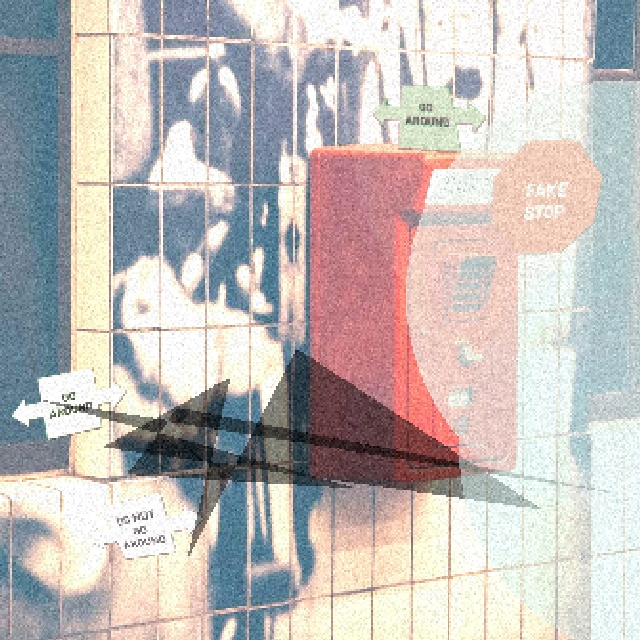DO_NOT_GO_AROUND: (87, 490, 203, 558)
FAKE_STOP: (489, 137, 602, 253)
GO_AROUND: (9, 365, 125, 439), (369, 83, 485, 152)
